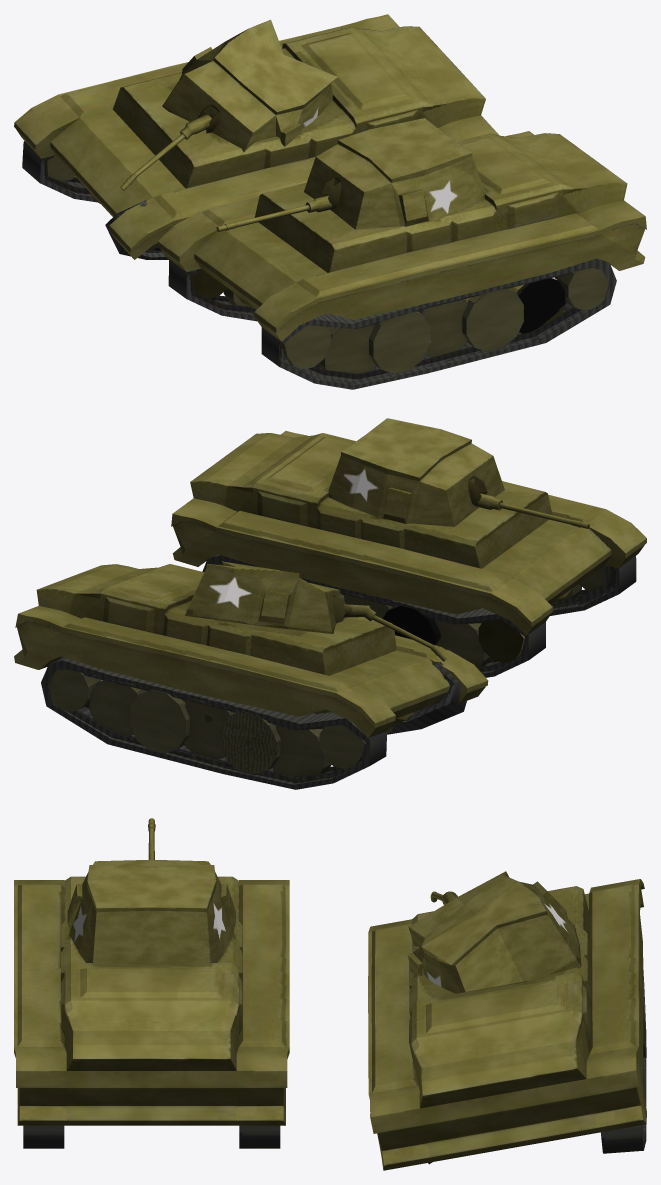
File: tank.fbx
3 views of the same model, one above another, from view 1: azimuth 30°, elevation 25°; view 2: azimuth 150°, elevation 25°; view 3: azimuth 270°, elevation 25° (orthographic). The views are drawn at different scales.
Visible parts, largest first — view 1: BodyGood, TankDestroyed, TurretGood, GunGood; view 2: TankDestroyed, BodyGood, TurretGood, GunGood; view 3: TankDestroyed, BodyGood, TurretGood.
Part boxes in pixels (<box>): BodyGood: <box>157,131,646,389</box>; TankDestroyed: <box>14,14,498,259</box>; TurretGood: <box>304,118,485,229</box>; GunGood: <box>216,195,334,231</box>; TankDestroyed: <box>14,561,488,789</box>; BodyGood: <box>171,431,646,677</box>; TurretGood: <box>328,418,504,526</box>; GunGood: <box>475,493,589,528</box>; TankDestroyed: <box>368,871,646,1170</box>; BodyGood: <box>14,876,289,1148</box>; TurretGood: <box>67,859,235,964</box>.
Size of what is drawn, in the model's own units: 7.56 by 3.45 by 9.24.
2 materials, 2 textured.
